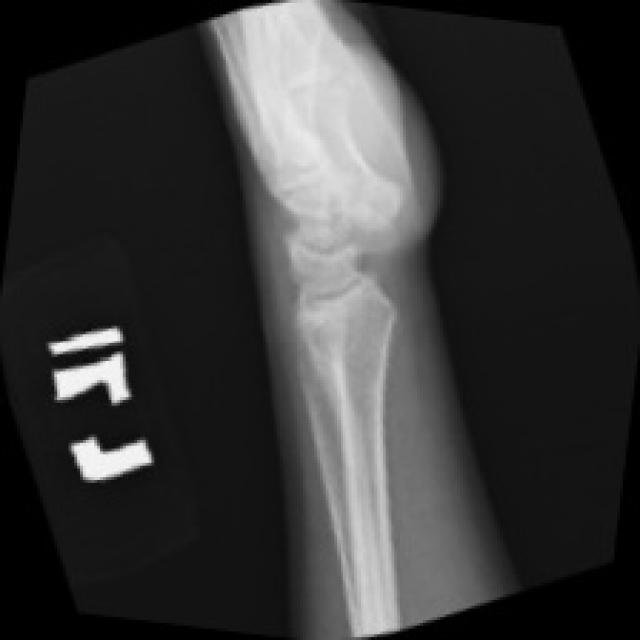fracture: (266, 180, 445, 376)
